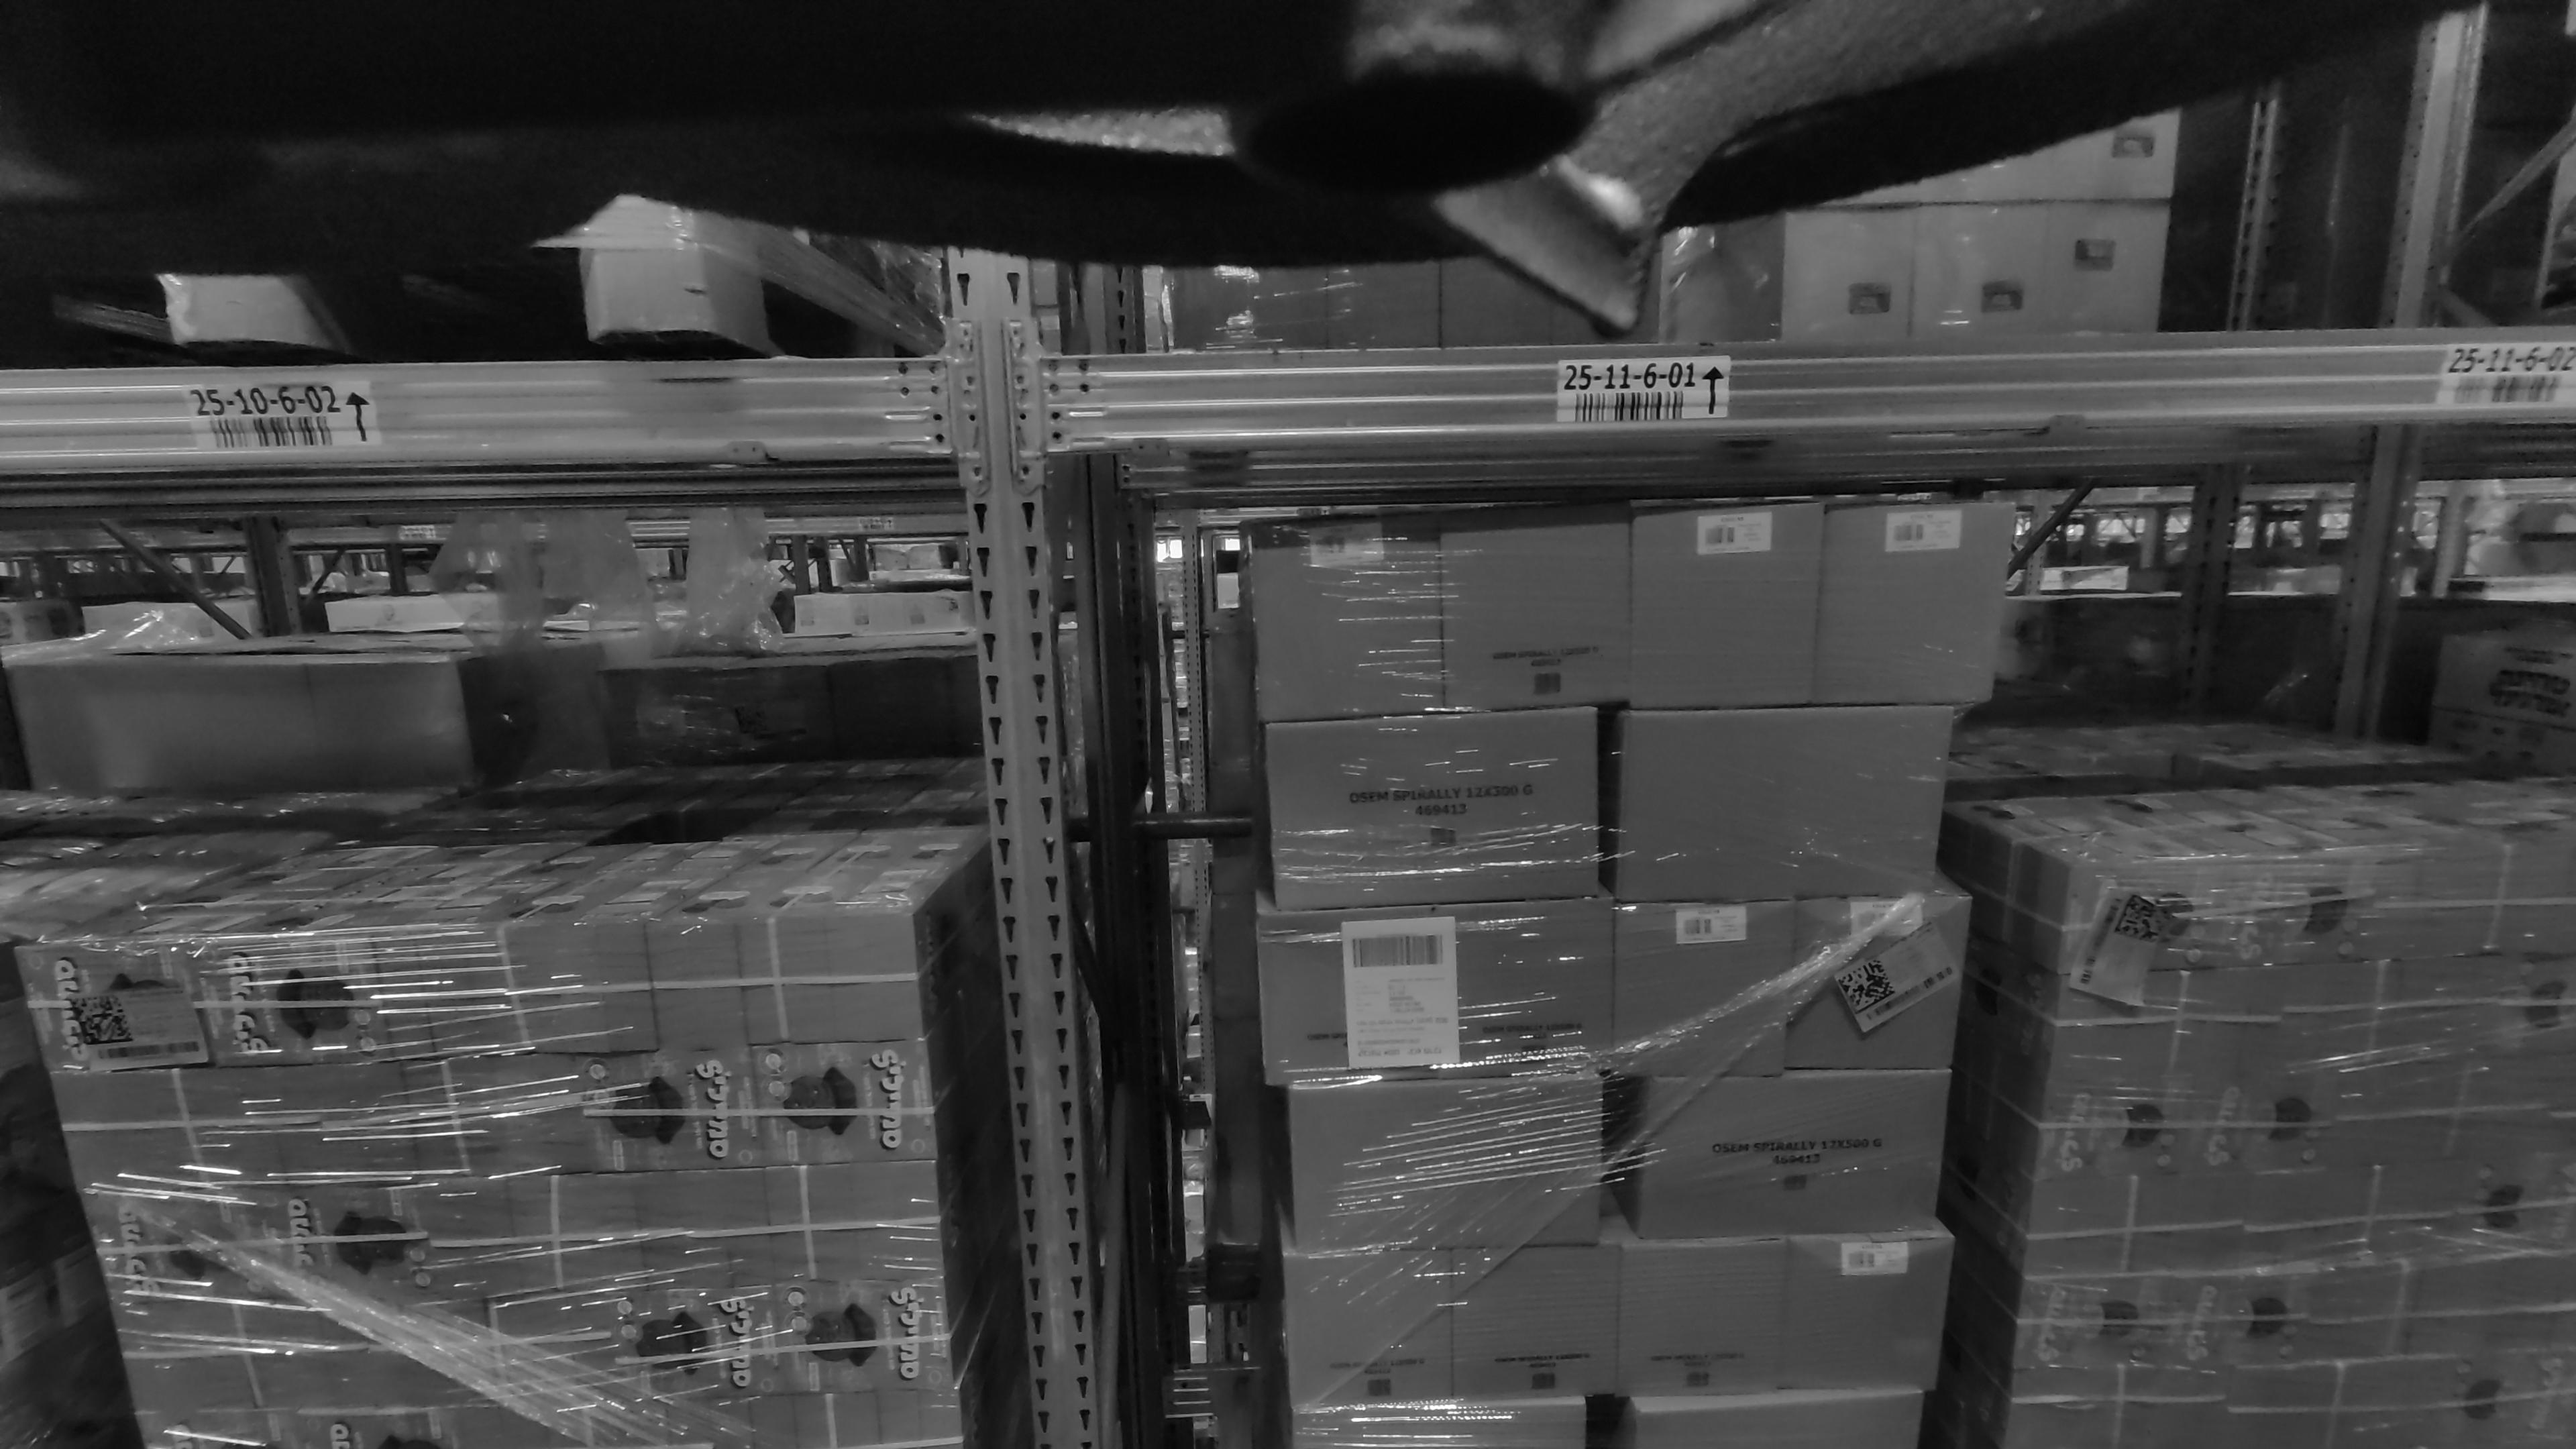empty-shelf: (1969, 0, 2576, 331), (1159, 170, 1909, 341)
